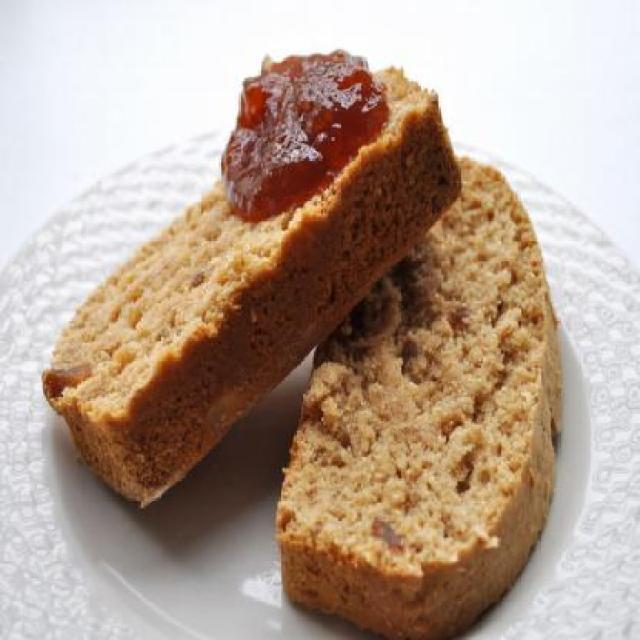Spread: (212, 34, 391, 217)
